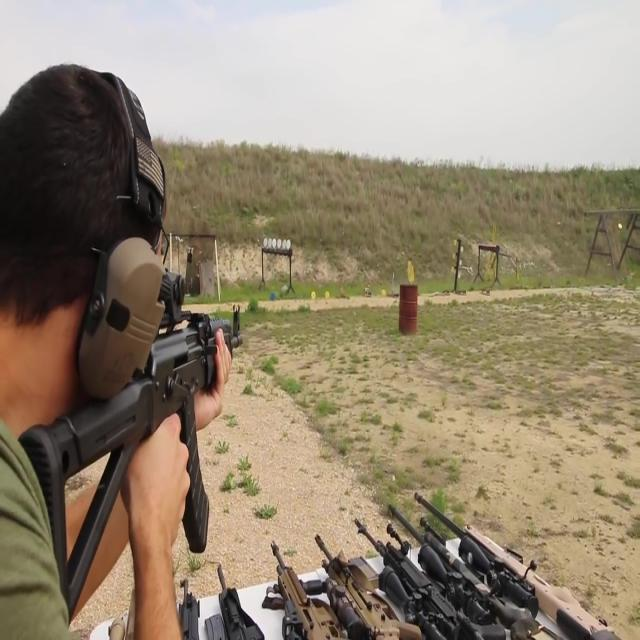Weapon: (59, 399, 640, 640), (0, 223, 284, 635)
